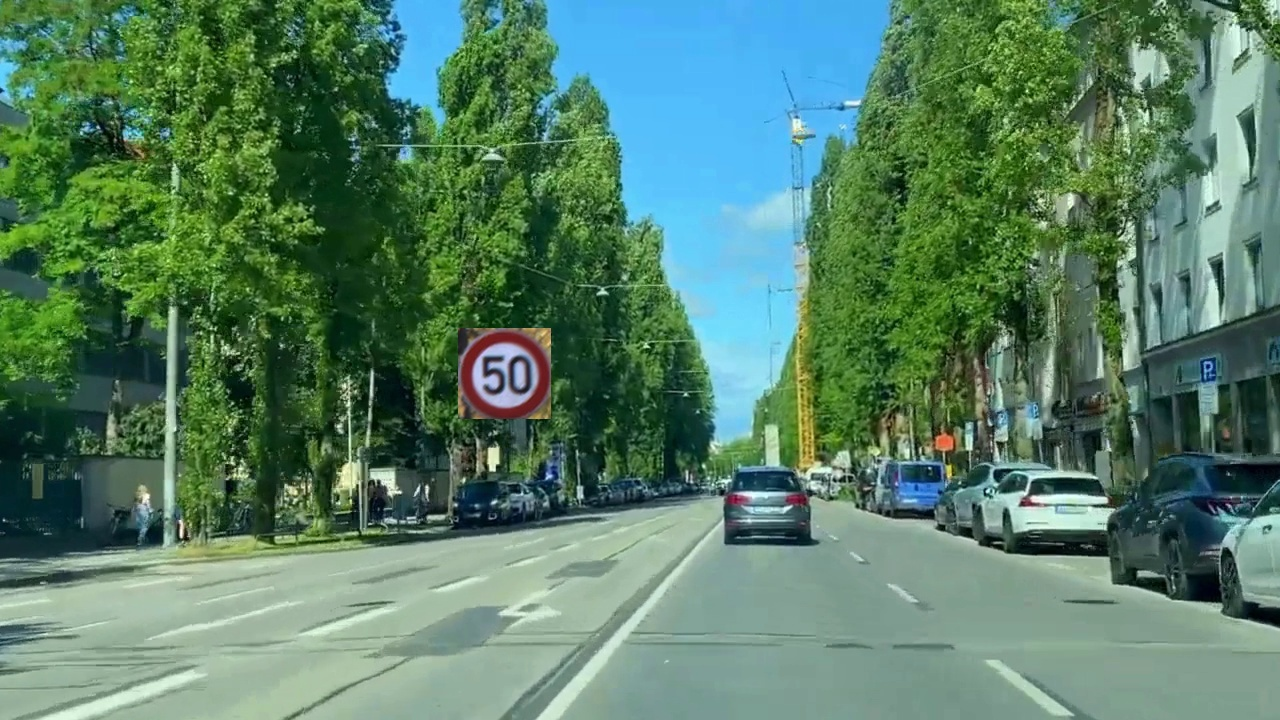Speed 50: (458, 328, 551, 419)
